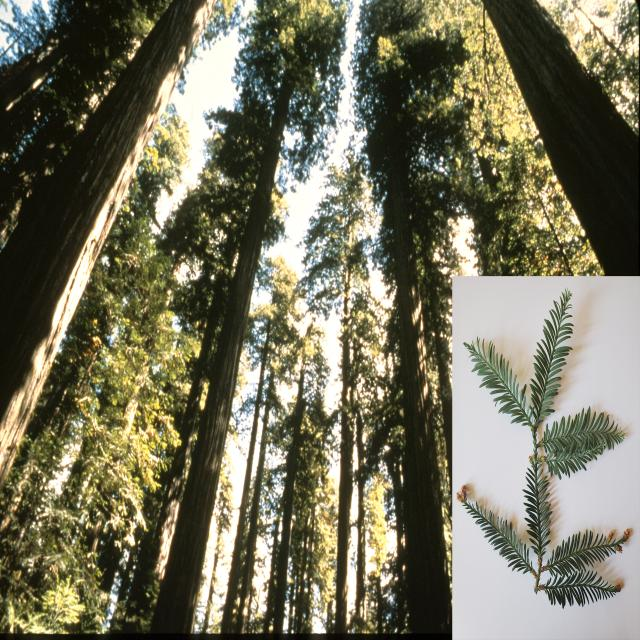Sequoia sempervirens: (147, 21, 342, 631), (374, 2, 455, 616), (284, 353, 309, 600)
